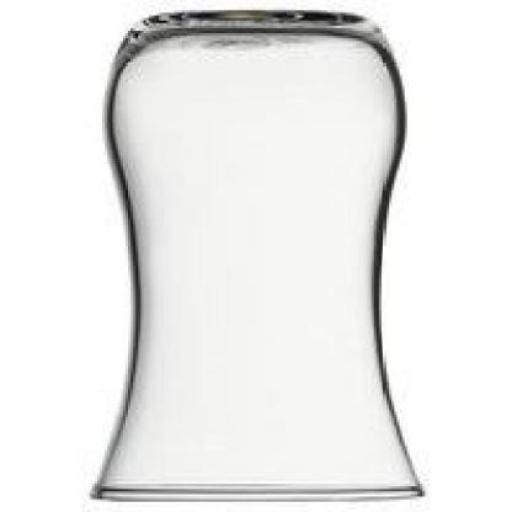glass: (95, 14, 427, 504)
